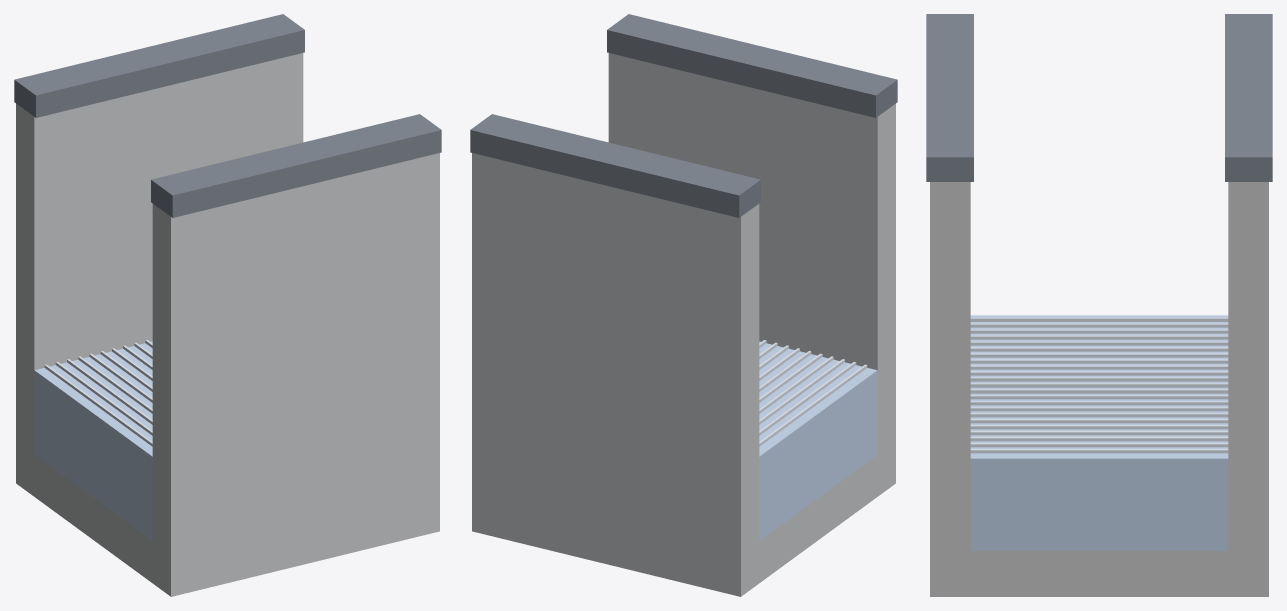
File: escalator.glb
3 views of the same model, side by side, from view 1: azimuth 30°, elevation 25°; view 2: azimuth 150°, elevation 25°; view 3: azimuth 270°, elevation 25° (orthographic). The views are drawn at different scales.
Visible parts, largest first — view 1: escalator; view 2: escalator; view 3: escalator.
Part boxes in pixels (x1=…): escalator: x1=14, y1=14, x2=441, y2=596; escalator: x1=470, y1=14, x2=897, y2=596; escalator: x1=926, y1=14, x2=1272, y2=596.
Bounding box in the file's own units: 0.3472 × 0.4965 × 0.3542.
